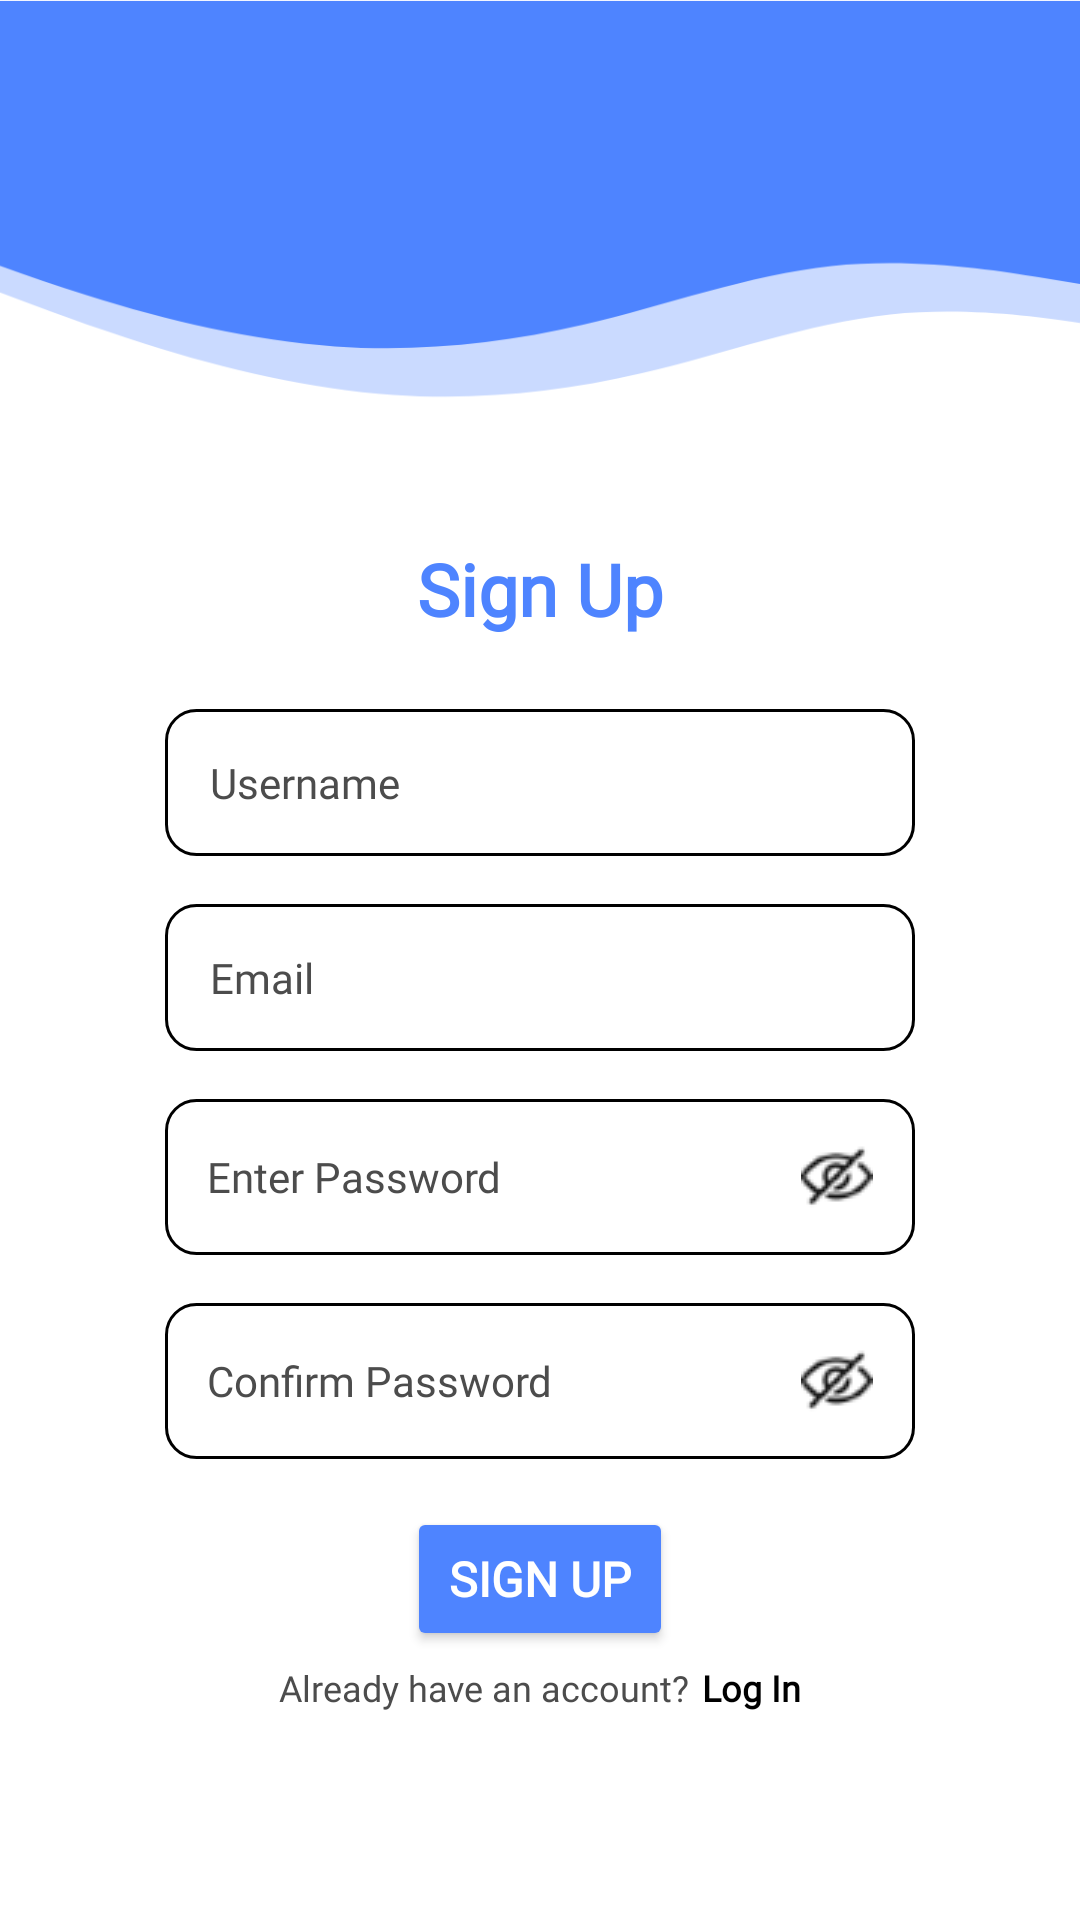

Locate icon controls on the screen. Image size 1080px x 1920px, boxes as (x1, y1, x2, y2).
hide: (801, 1148, 873, 1205), (801, 1352, 873, 1409)
